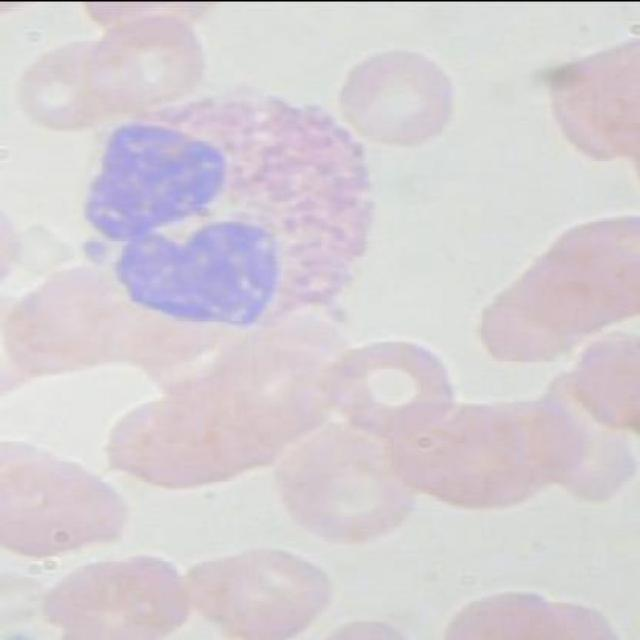RBC: (279, 423, 423, 546), (37, 534, 201, 638), (40, 537, 203, 638), (86, 0, 216, 114), (332, 43, 460, 157), (327, 328, 455, 442), (21, 24, 148, 138), (208, 534, 338, 638)
WBC: (75, 77, 383, 334)
